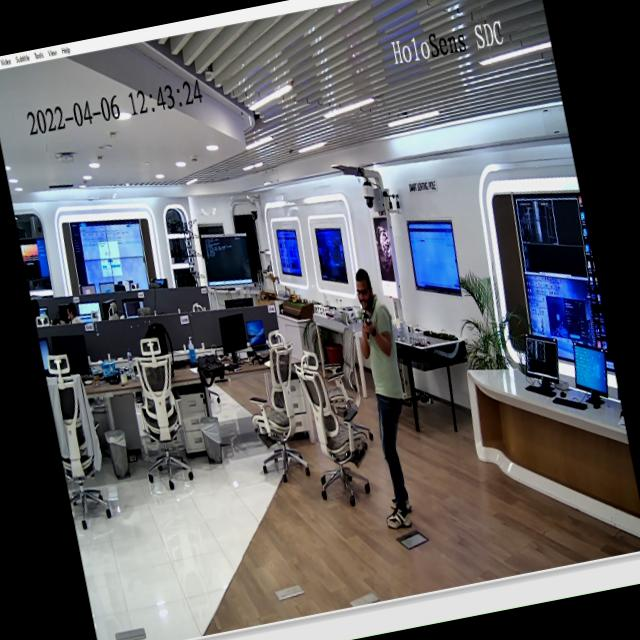long weapon: (356, 306, 382, 349)
